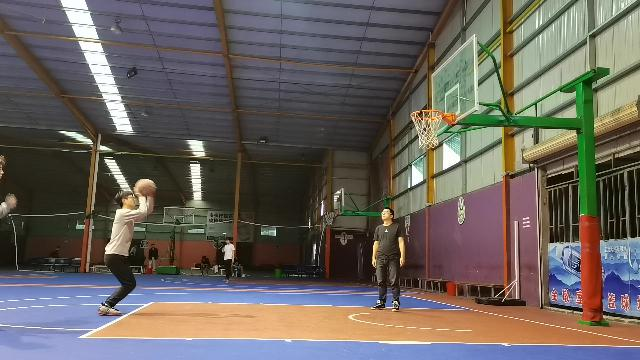ball: (134, 178, 156, 198)
basket: (409, 108, 445, 148), (324, 210, 334, 224)
